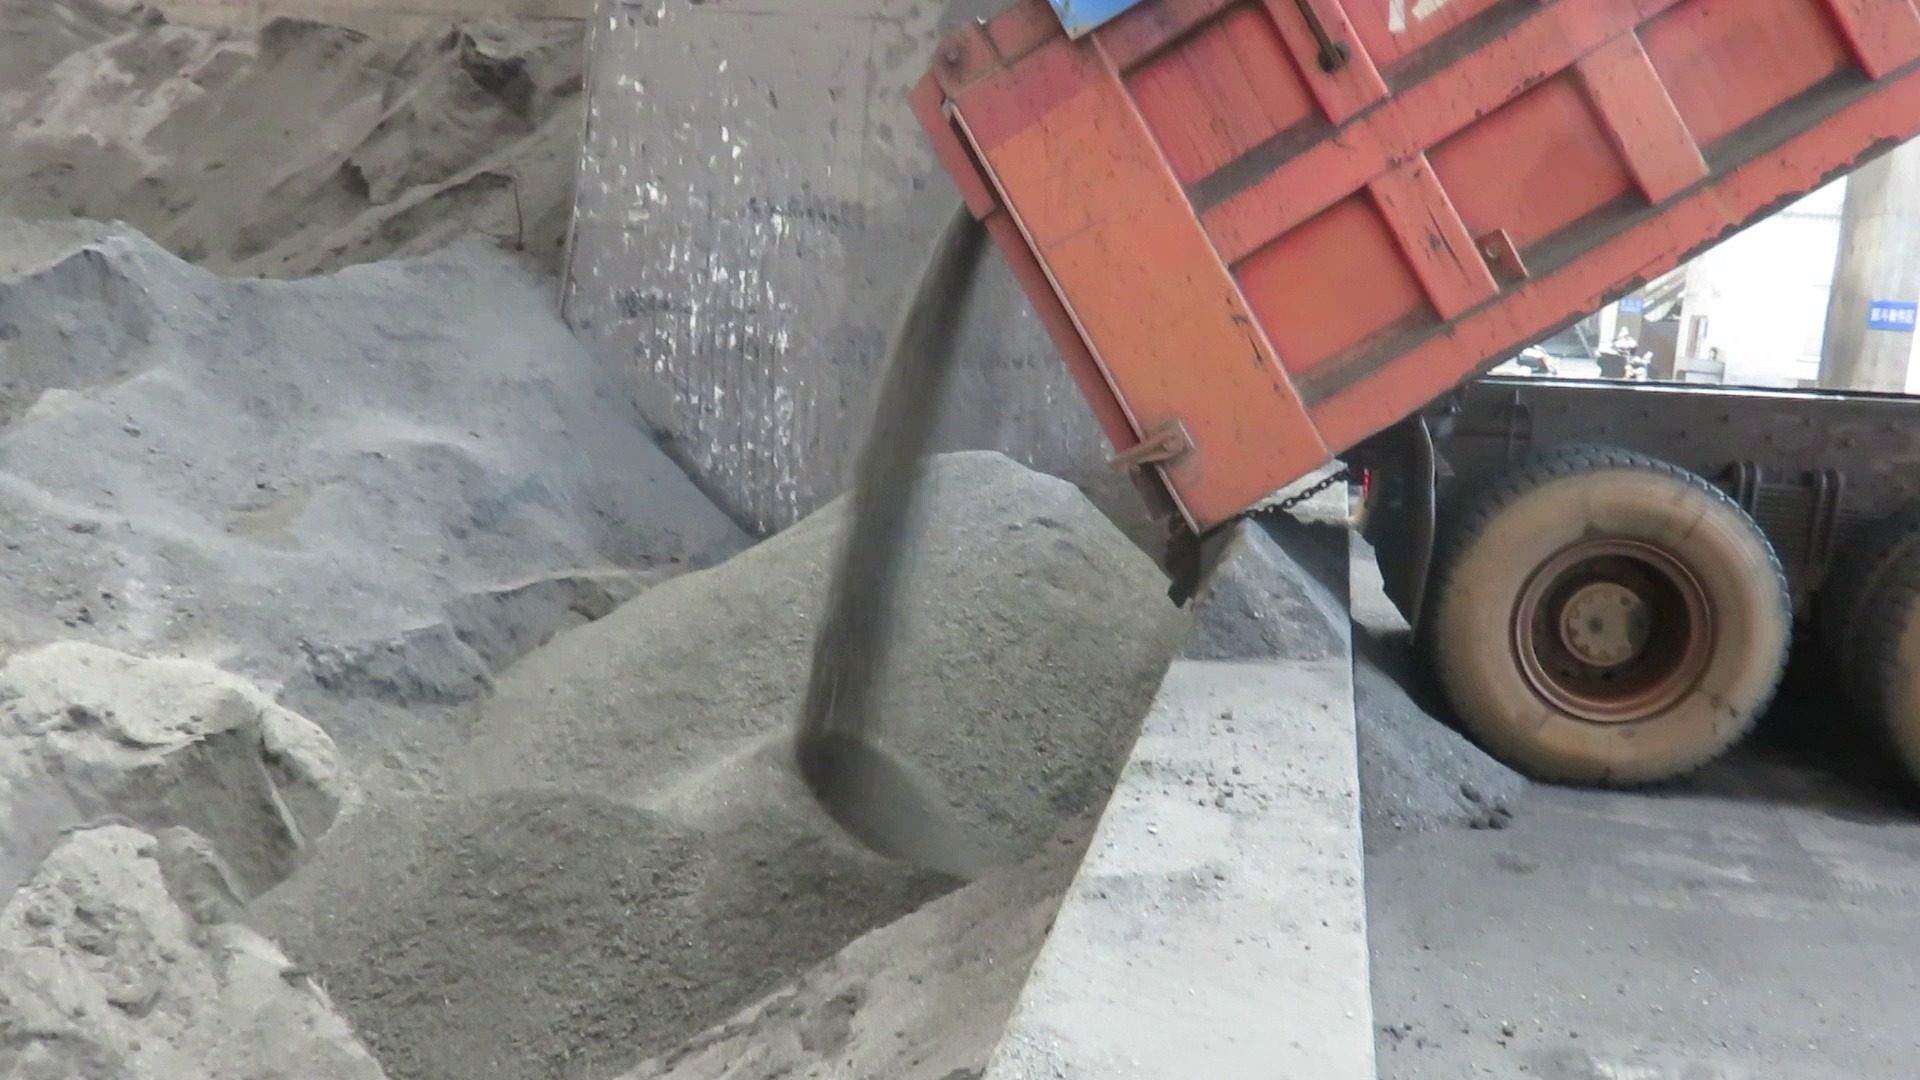truck: (893, 0, 1920, 822)
